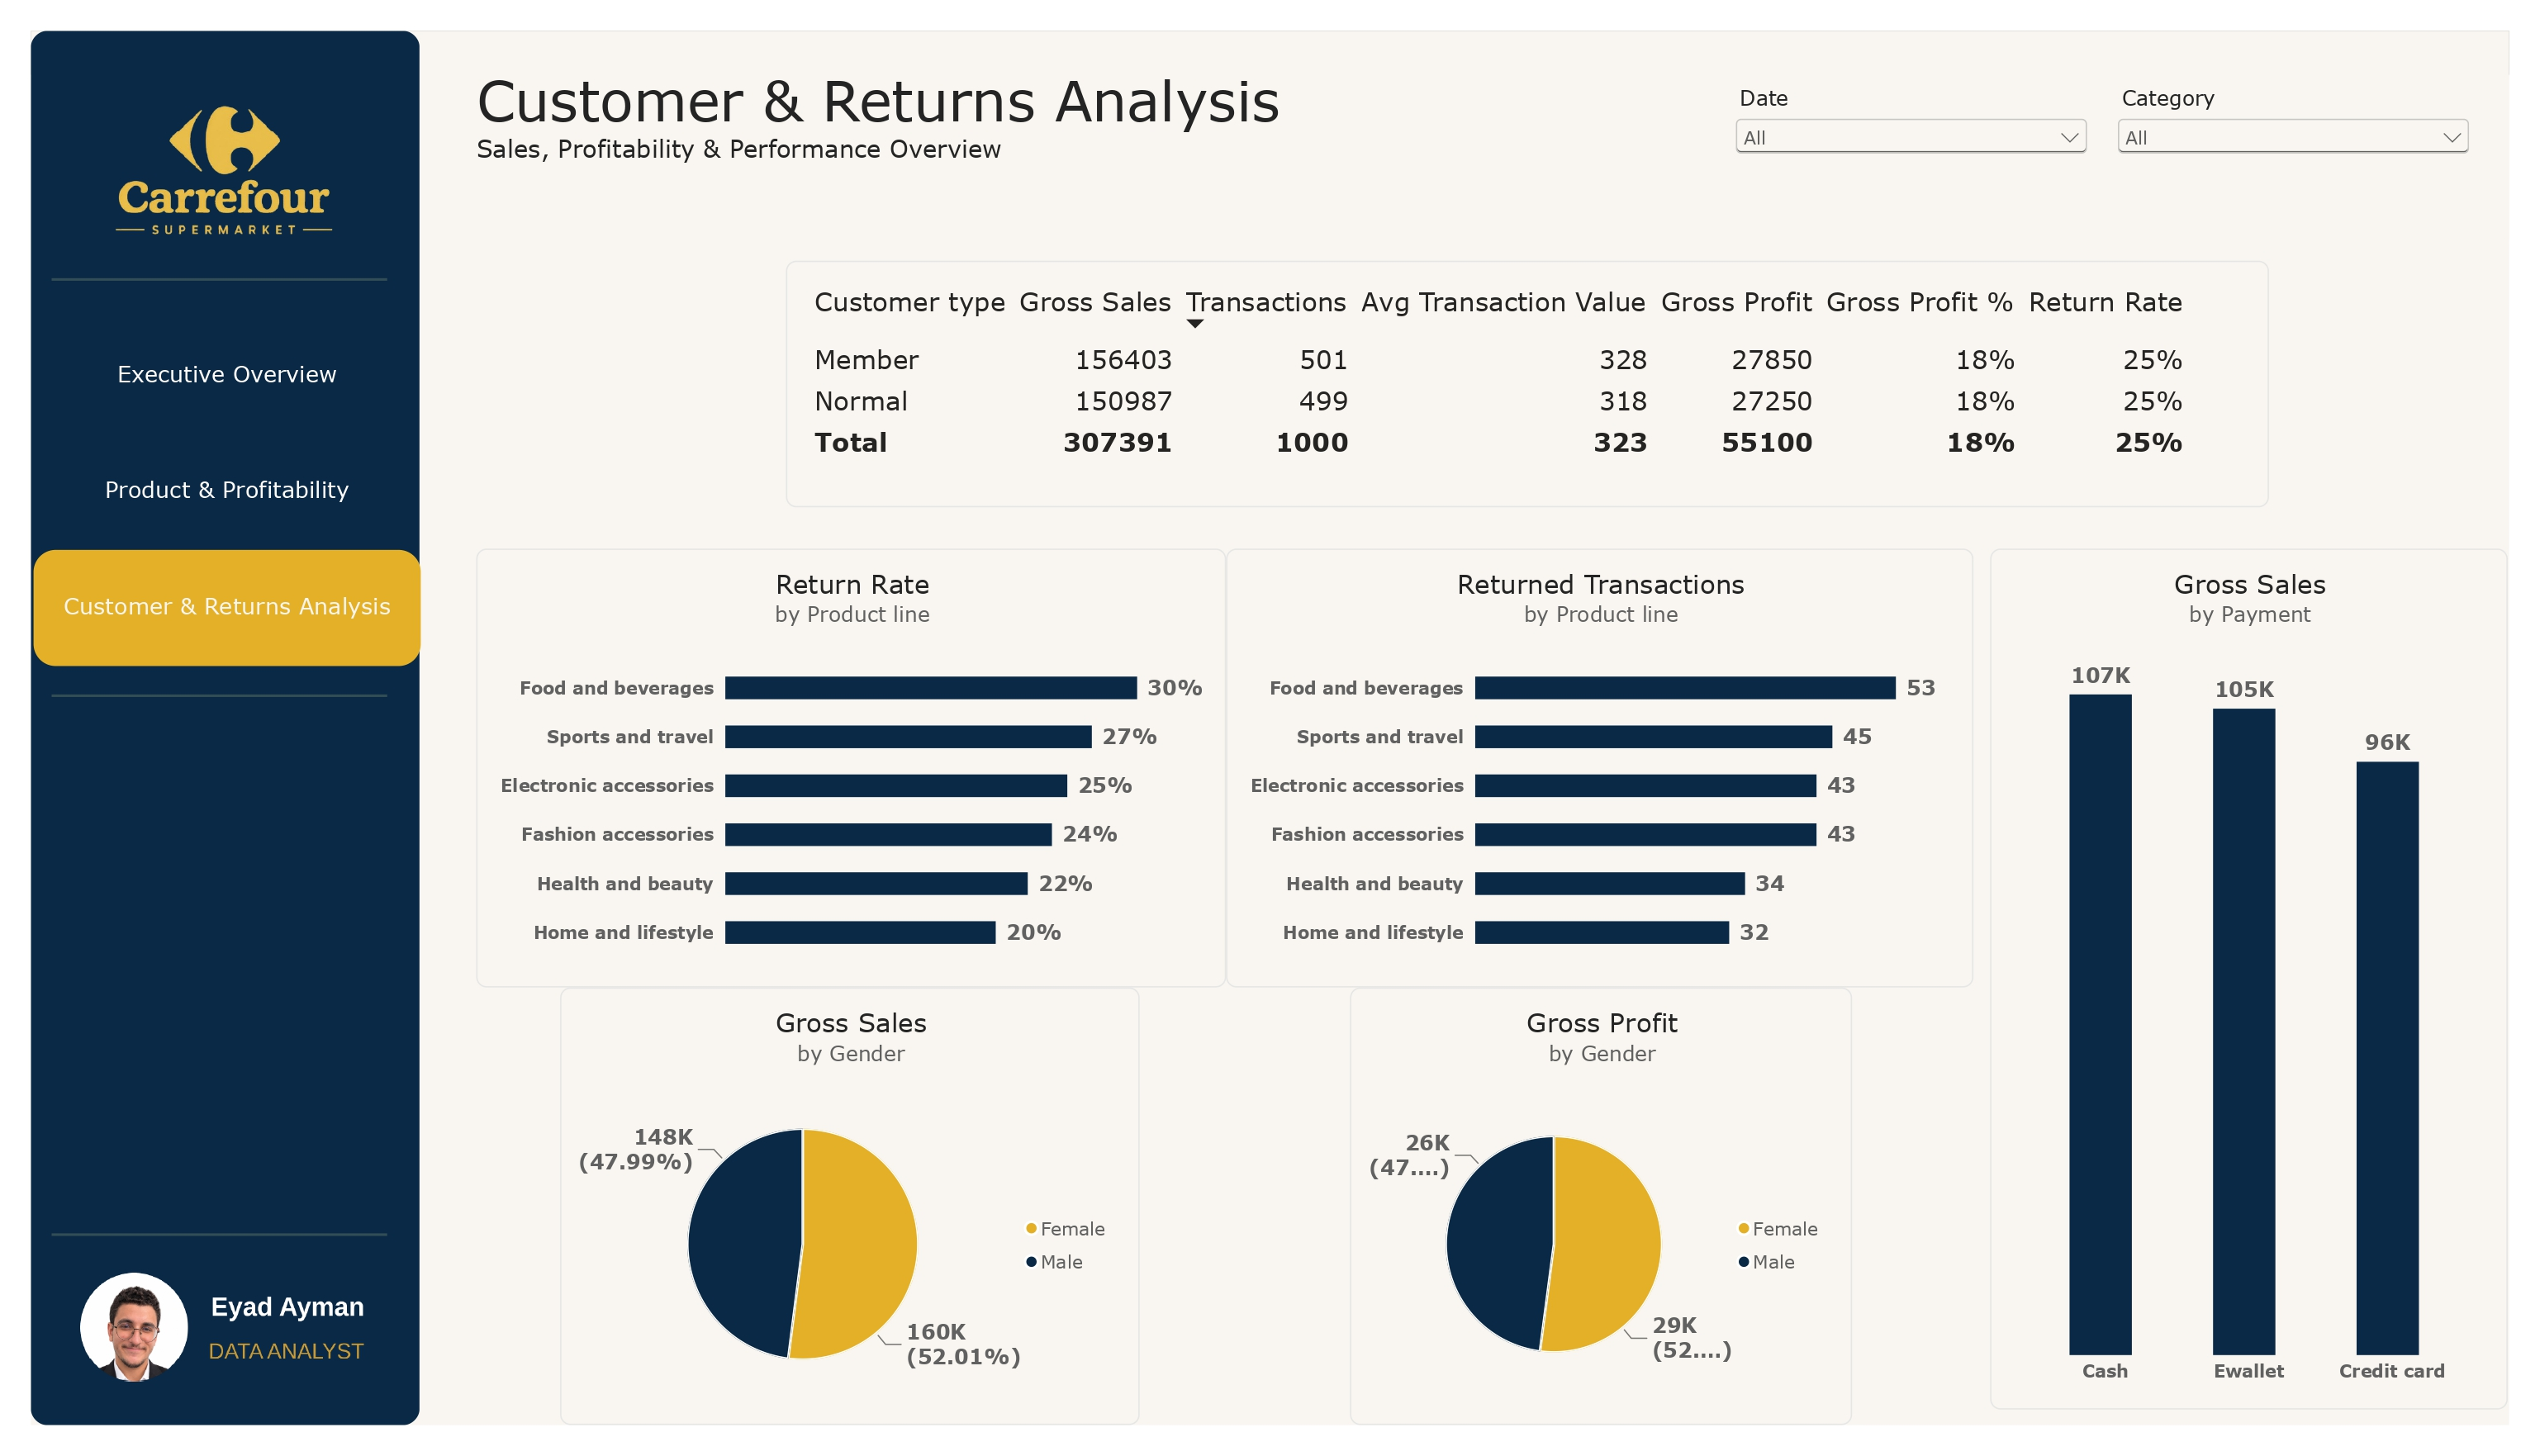

What the dashboard file says about the page in this screenshot:
{"tool":"powerbi","page":{"name":"Customer & Returns Analysis","canvas":[1920,1080],"ordinal":2},"visuals":[{"type":"textbox","box":[345,27.2,737.2,92.6],"z":1000},{"type":"slicer","fields":{"Values":["SuperMarket_Sales.Product line"]},"box":[1612.4,41.8,281.4,67.2],"z":3000},{"type":"pivotTable","fields":{"Rows":["SuperMarket_Sales.Customer type"],"Values":["SuperMarket_Sales.Gross Sales","SuperMarket_Sales.Total Transactions","SuperMarket_Sales.Average Transaction Value","SuperMarket_Sales.Gross Profit","SuperMarket_Sales.Gross Profit %","Data2.Return Rate"]},"box":[584.7,177.9,1149.4,190.7],"z":6000},{"type":"pieChart","fields":{"Category":["SuperMarket_Sales.Gender"],"Y":["SuperMarket_Sales.Gross Sales"]},"box":[410.4,740.8,448.5,339.5],"z":7000},{"type":"pieChart","fields":{"Category":["SuperMarket_Sales.Gender"],"Y":["SuperMarket_Sales.Gross Profit"]},"box":[1022.3,740.8,388.6,339.5],"z":8000},{"type":"clusteredBarChart","fields":{"Category":["SuperMarket_Sales.Product line"],"Y":["Data2.Return Rate"]},"box":[345,401.3,581,339.5],"z":9000},{"type":"clusteredBarChart","fields":{"Category":["SuperMarket_Sales.Product line"],"Y":["Data2.Returned Transactions"]},"box":[926,401.3,579.2,339.5],"z":10000},{"type":"columnChart","fields":{"Category":["SuperMarket_Sales.Payment"],"Y":["SuperMarket_Sales.Gross Sales"]},"box":[1518,401.3,401.3,666.4],"z":11000},{"type":"shape","box":[0,0,301.4,1080.4],"z":11001},{"type":"pageNavigator","box":[1.8,221.5,300,272],"z":11002},{"type":"image","box":[0,27.2,301.4,163.4],"z":11003},{"type":"shape","box":[16.3,121.7,259.7,141.6],"z":11004},{"type":"shape","box":[16.3,493.9,259.7,41.8],"z":11005},{"type":"shape","box":[16.3,911.5,259.7,41.8],"z":11006},{"type":"image","box":[38.1,953.3,219.7,101.7],"z":11007},{"type":"slicer","fields":{"Values":["SuperMarket_Sales.Date.Variation.Date Hierarchy.Month"]},"box":[1316.4,41.8,281.4,67.2],"z":11008}]}

Visuals, with their boxes on the page's 1920x1080 design canvas (x1, y1, x2, y2). These are canvas units, not pixel positions in the 2540x1456 screenshot, which may show the page scaled, cropped or inside an application window:
textbox: (left=345, top=27, right=1082, bottom=120)
slicer - SuperMarket_Sales.Product line: (left=1612, top=42, right=1894, bottom=109)
pivotTable - SuperMarket_Sales.Customer type x SuperMarket_Sales.Gross Sales: (left=585, top=178, right=1734, bottom=369)
pieChart - SuperMarket_Sales.Gender x SuperMarket_Sales.Gross Sales: (left=410, top=741, right=859, bottom=1080)
pieChart - SuperMarket_Sales.Gender x SuperMarket_Sales.Gross Profit: (left=1022, top=741, right=1411, bottom=1080)
clusteredBarChart - SuperMarket_Sales.Product line x Data2.Return Rate: (left=345, top=401, right=926, bottom=741)
clusteredBarChart - SuperMarket_Sales.Product line x Data2.Returned Transactions: (left=926, top=401, right=1505, bottom=741)
columnChart - SuperMarket_Sales.Payment x SuperMarket_Sales.Gross Sales: (left=1518, top=401, right=1919, bottom=1068)
shape: (left=0, top=0, right=301, bottom=1080)
pageNavigator: (left=2, top=222, right=302, bottom=494)
image: (left=0, top=27, right=301, bottom=191)
shape: (left=16, top=122, right=276, bottom=263)
shape: (left=16, top=494, right=276, bottom=536)
shape: (left=16, top=912, right=276, bottom=953)
image: (left=38, top=953, right=258, bottom=1055)
slicer - SuperMarket_Sales.Date.Variation.Date Hierarchy.Month: (left=1316, top=42, right=1598, bottom=109)
